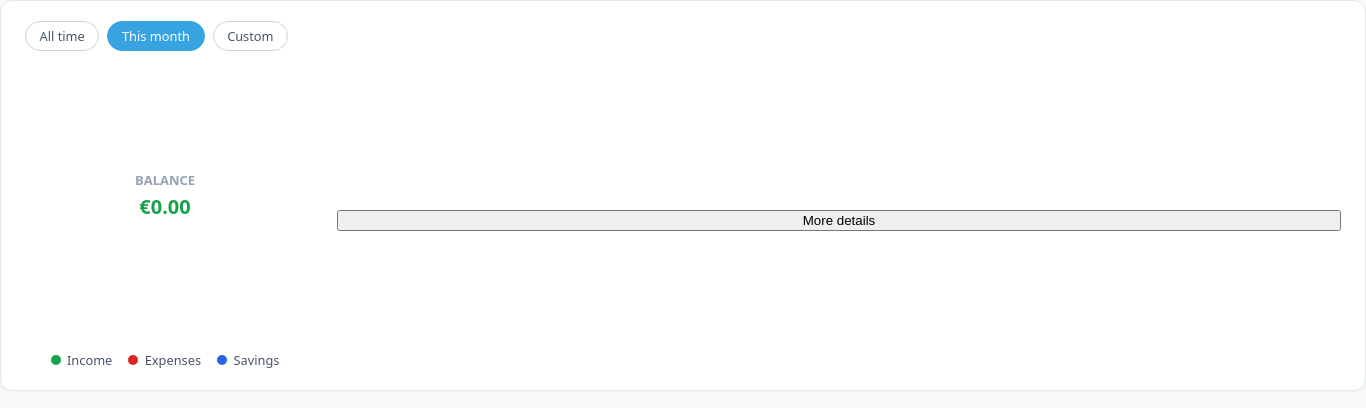
Test: Analytics › on mobile, trims to 3 range pills and hides breakdowns until expanded
Expected: the buttons read "All time", "This month", "Custom", in this order, [25,21,99,51]; [107,21,204,51]; [212,21,288,51]
Click the button "More details": (839, 220) [337,210,1341,231]
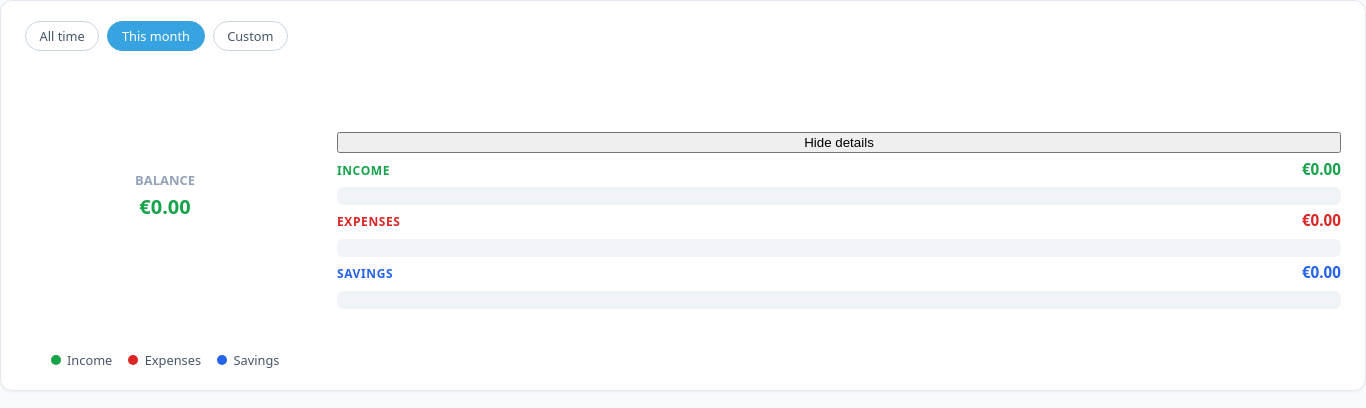
Expected: the element with class "breakdown" showing "Income €0.00" is shown, [337,158,1341,205]
